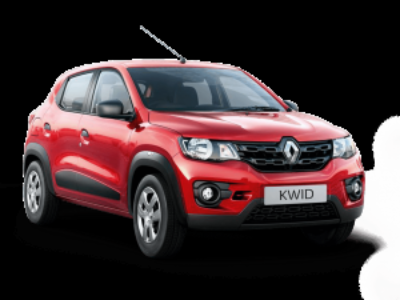licence: (263, 180, 332, 212)
